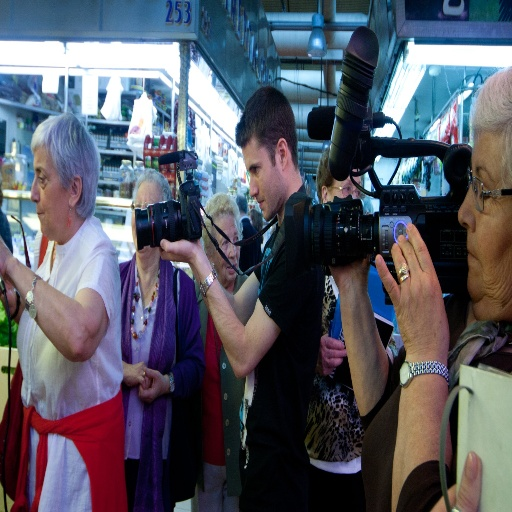hand: (388, 220, 450, 386), (430, 447, 483, 511), (314, 333, 348, 378), (155, 234, 201, 265), (327, 257, 373, 288), (137, 365, 166, 404), (124, 362, 153, 390), (0, 281, 16, 317), (0, 233, 10, 281)
